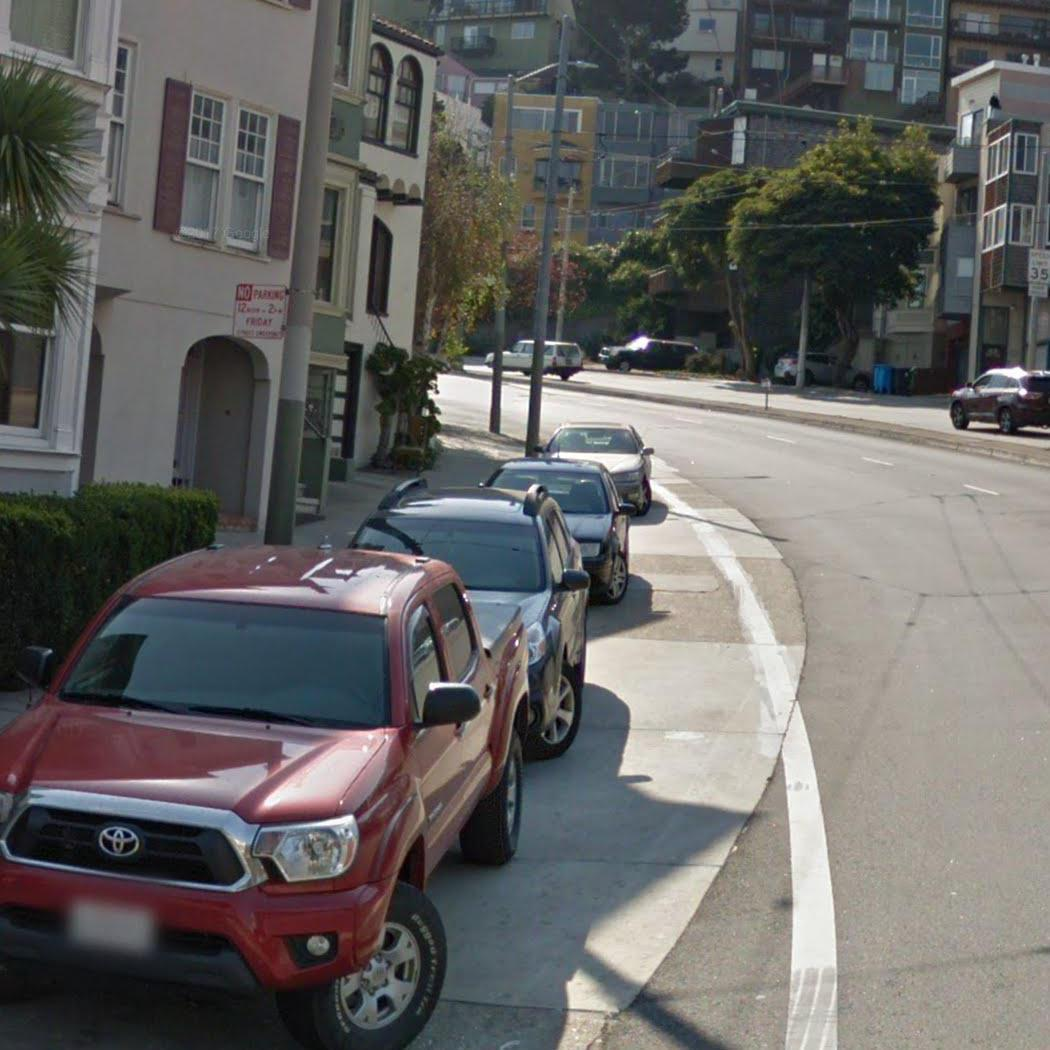No Parking: (231, 279, 295, 345)
